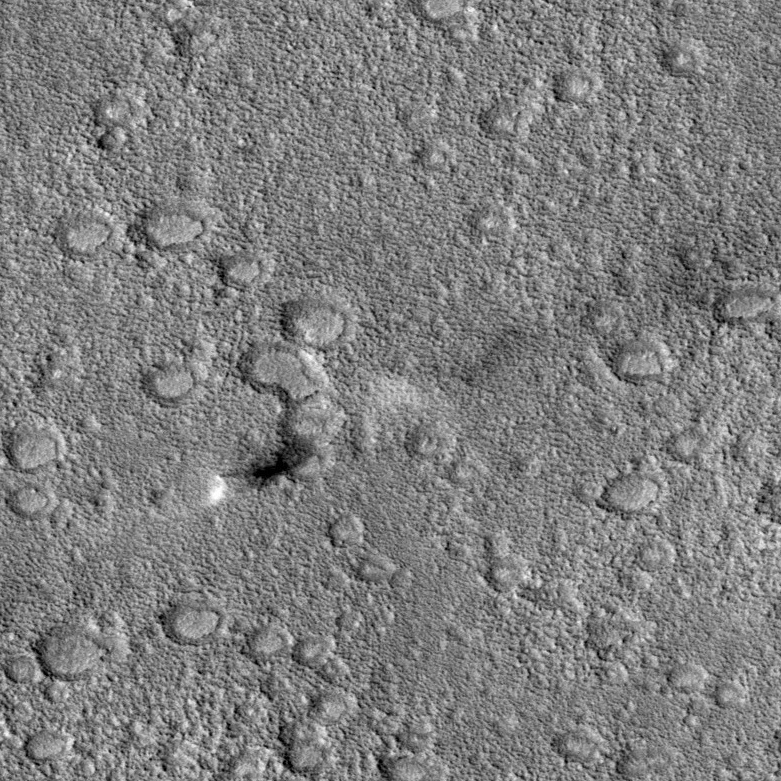dust_devil: (195, 432, 324, 510)
